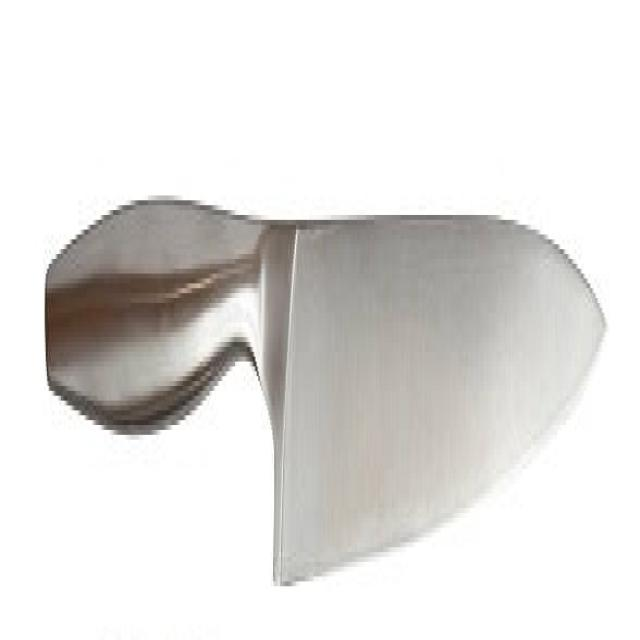knife: (38, 119, 623, 616)
